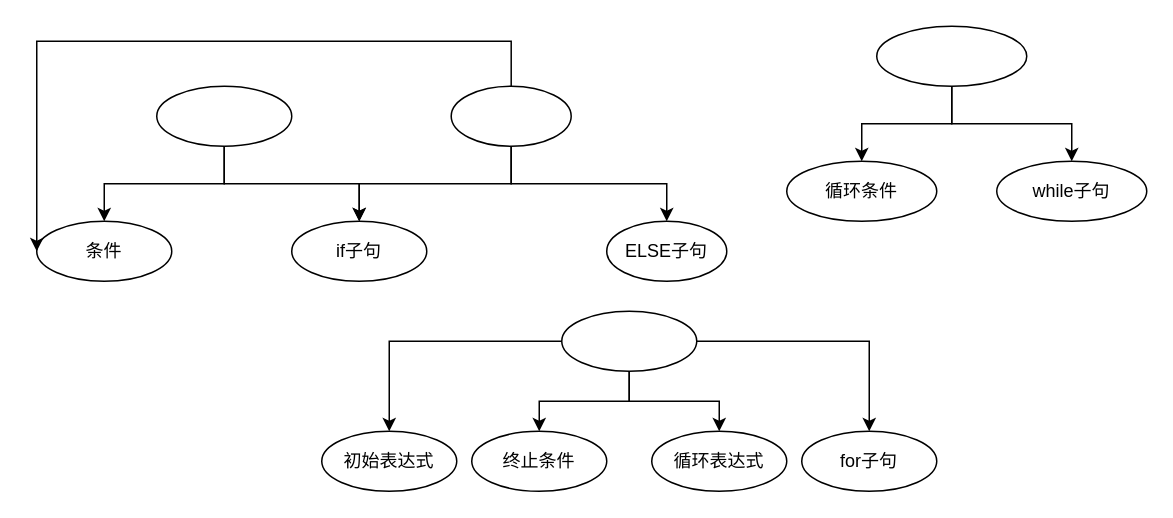
This 1173x518 diagram has some shape labels left out. The shapes that lost their labels are listed below. From the top down, each one's centre as x and y in pixels, then its label:
the point at 951,55: while语句
the point at 223,115: if语句
the point at 510,115: if-else语句
the point at 628,340: for语句
